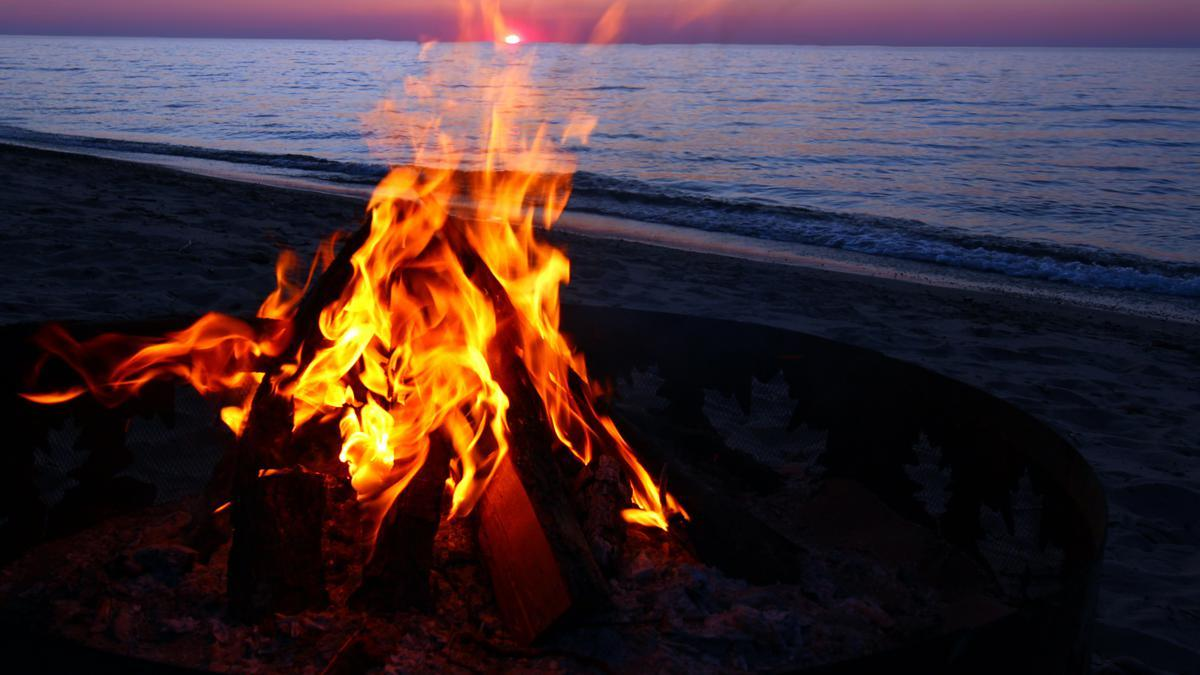fire: (59, 1, 695, 544)
